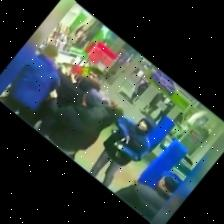person: (89, 117, 155, 186), (41, 89, 106, 155), (4, 45, 58, 120), (114, 176, 178, 221), (79, 101, 122, 150)
